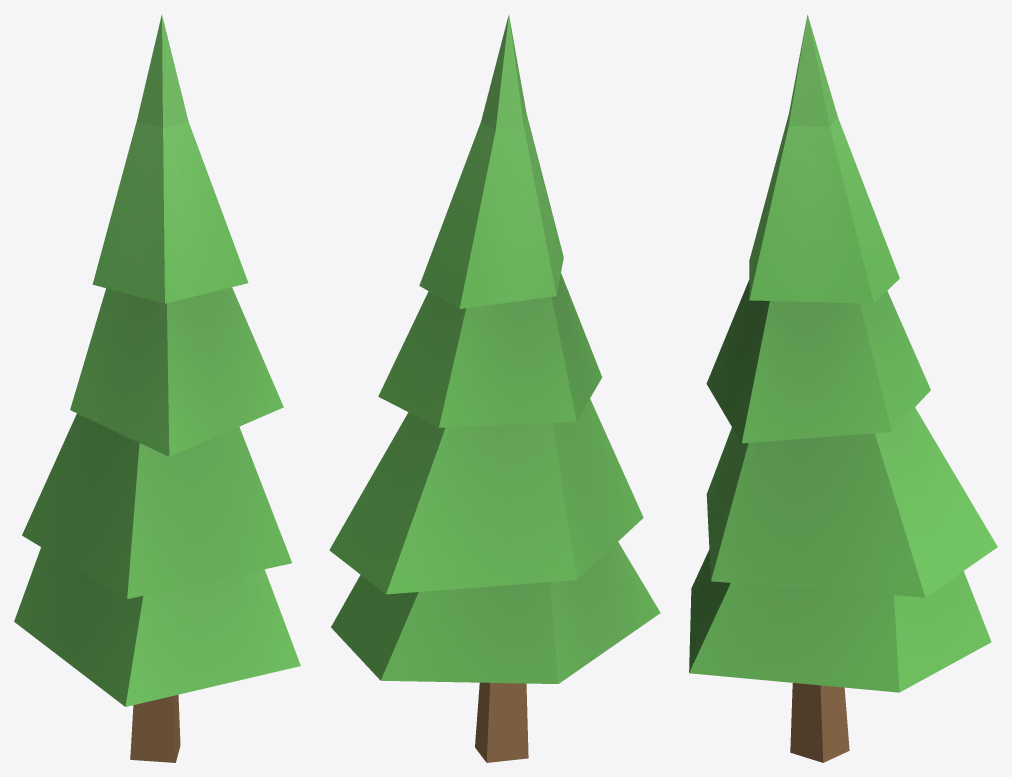
Rendered from Fir_Tree_OneSided_m_10_LOD.fbx.
3 views of the same model, side by side, from view 1: azimuth 30°, elevation 25°; view 2: azimuth 150°, elevation 25°; view 3: azimuth 270°, elevation 25° (orthographic).
Parts seen in each view (by area): view 1: Fir_Tree_OneSided_m_10_LOD0; view 2: Fir_Tree_OneSided_m_10_LOD0; view 3: Fir_Tree_OneSided_m_10_LOD0.
Boxes of the visible parts, x1,y1,x2,y2 form: Fir_Tree_OneSided_m_10_LOD0: (14, 14, 300, 762); Fir_Tree_OneSided_m_10_LOD0: (329, 14, 660, 762); Fir_Tree_OneSided_m_10_LOD0: (689, 14, 997, 762).
Size of what is drawn, in the model's own units: 146 by 434 by 165.
